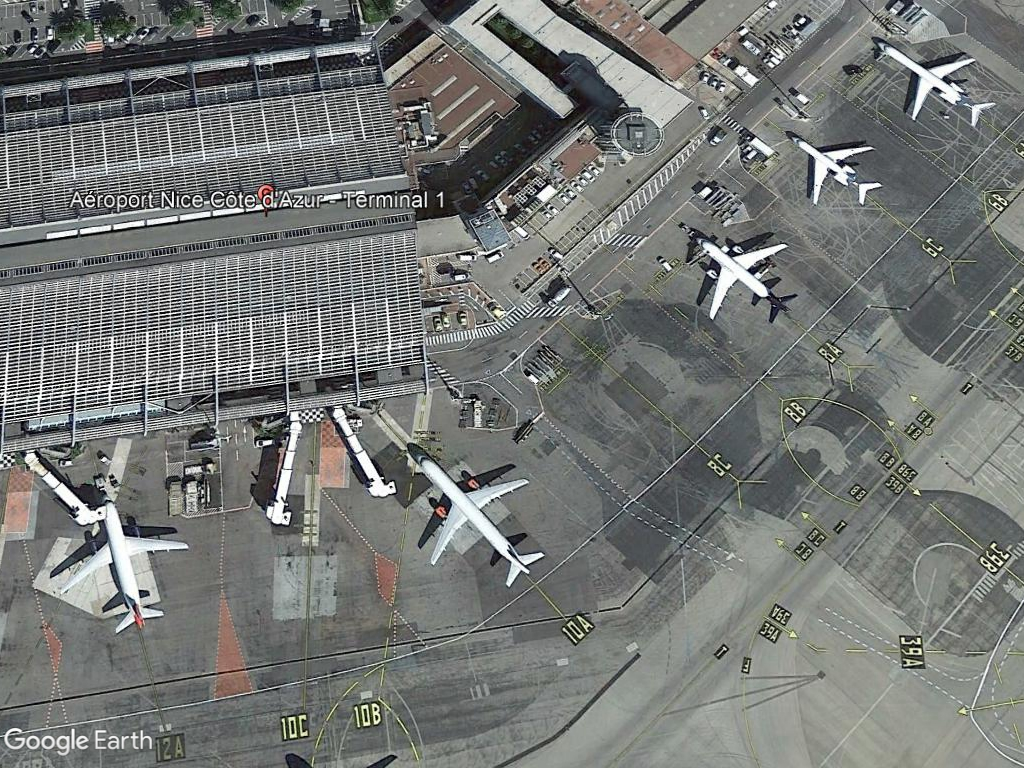airliner: (404, 448, 548, 590), (51, 504, 188, 635), (687, 230, 801, 330)
chartered: (783, 126, 887, 209)
